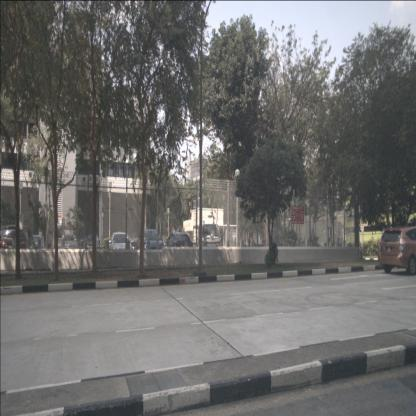vehicle-car: (378, 226, 416, 276), (0, 226, 37, 272), (165, 232, 193, 264), (136, 230, 162, 264), (109, 232, 133, 262), (60, 233, 78, 257), (85, 234, 100, 257)
vehicle-truck: (192, 224, 223, 260), (28, 234, 44, 252)
